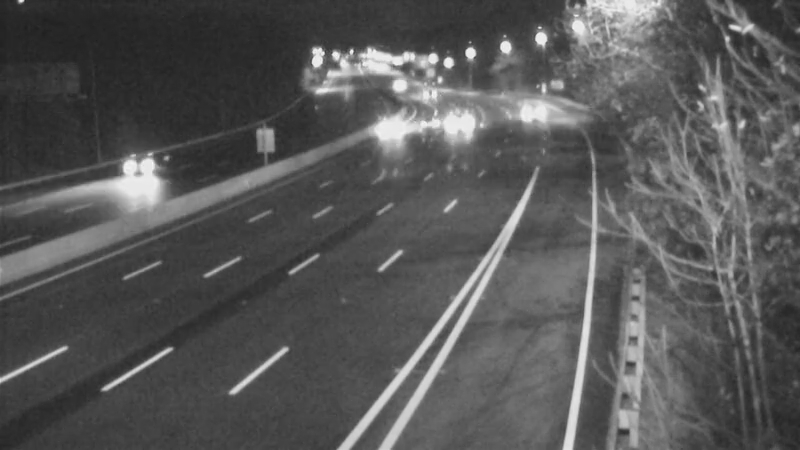vehicle: (103, 132, 183, 212), (371, 58, 421, 108), (401, 65, 451, 115), (492, 85, 542, 135), (430, 94, 480, 144), (405, 102, 455, 152), (370, 105, 420, 155)
